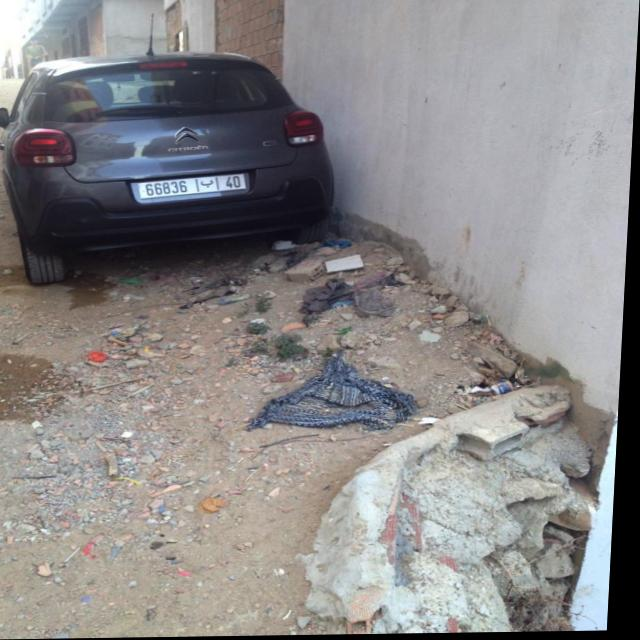License-Plate: (141, 175, 248, 200)
